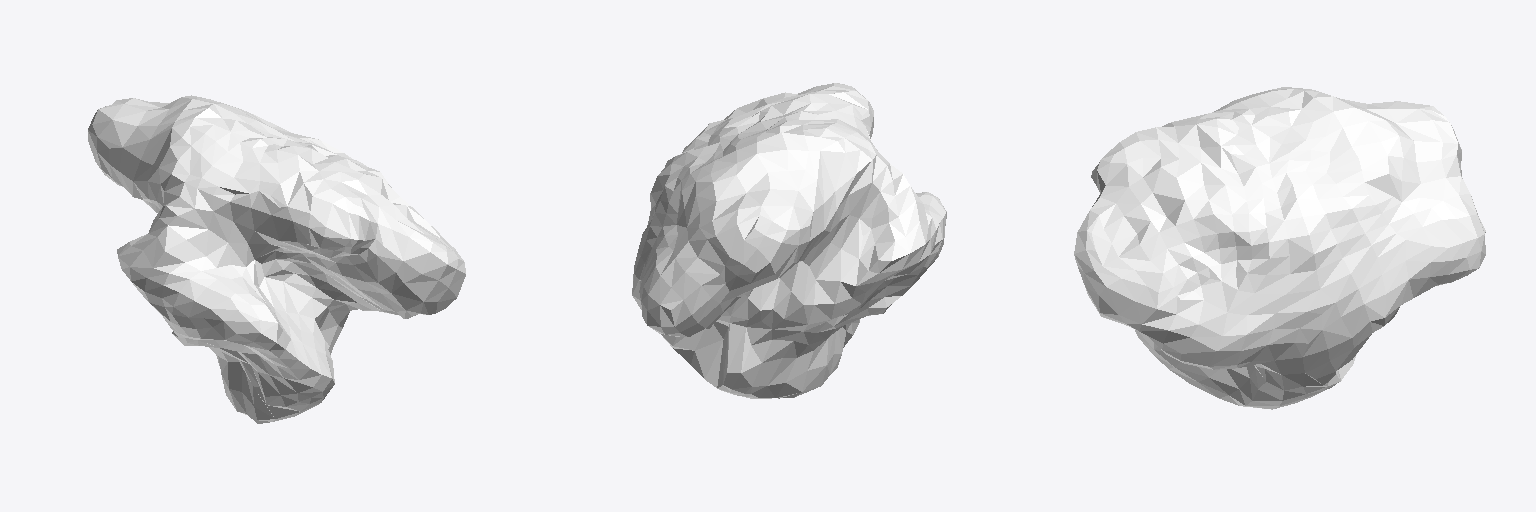
The model's file is cerebroP.obj.
3 renders of one model, left to right at view 1: azimuth 30°, elevation 25°; view 2: azimuth 150°, elevation 25°; view 3: azimuth 270°, elevation 25°, orthographic.
Visible parts, largest first — view 1: cerebro3_Mesh.005; view 2: cerebro3_Mesh.005; view 3: cerebro3_Mesh.005.
Part boxes in pixels (x1,y1,x2,y2): cerebro3_Mesh.005: (88, 95, 465, 423); cerebro3_Mesh.005: (632, 83, 946, 398); cerebro3_Mesh.005: (1074, 87, 1485, 409).
Size of the model in its own units: 16.18 by 15.59 by 20.32.